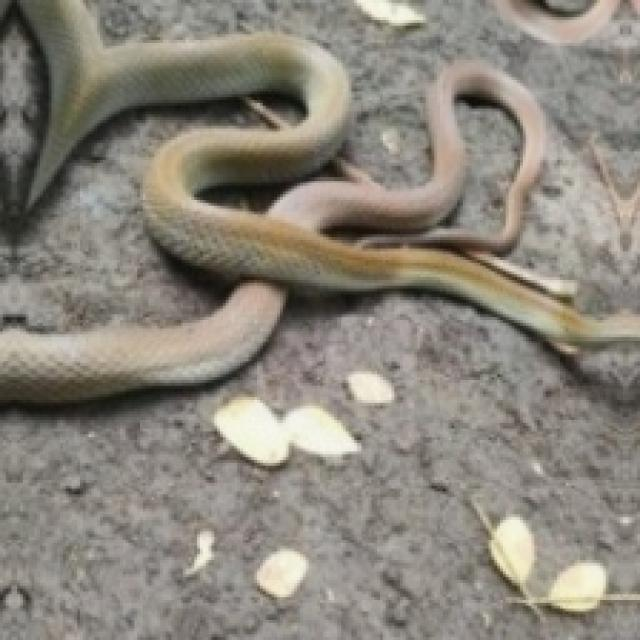reddish rat snake: (0, 0, 637, 400)
